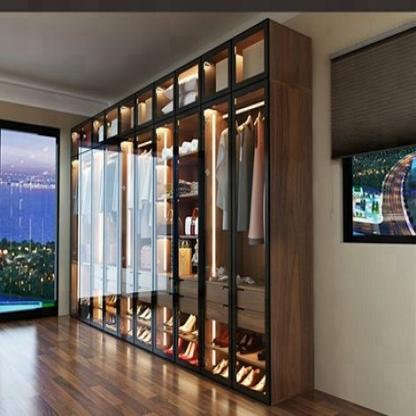Transparent Closet: (72, 20, 312, 406)
